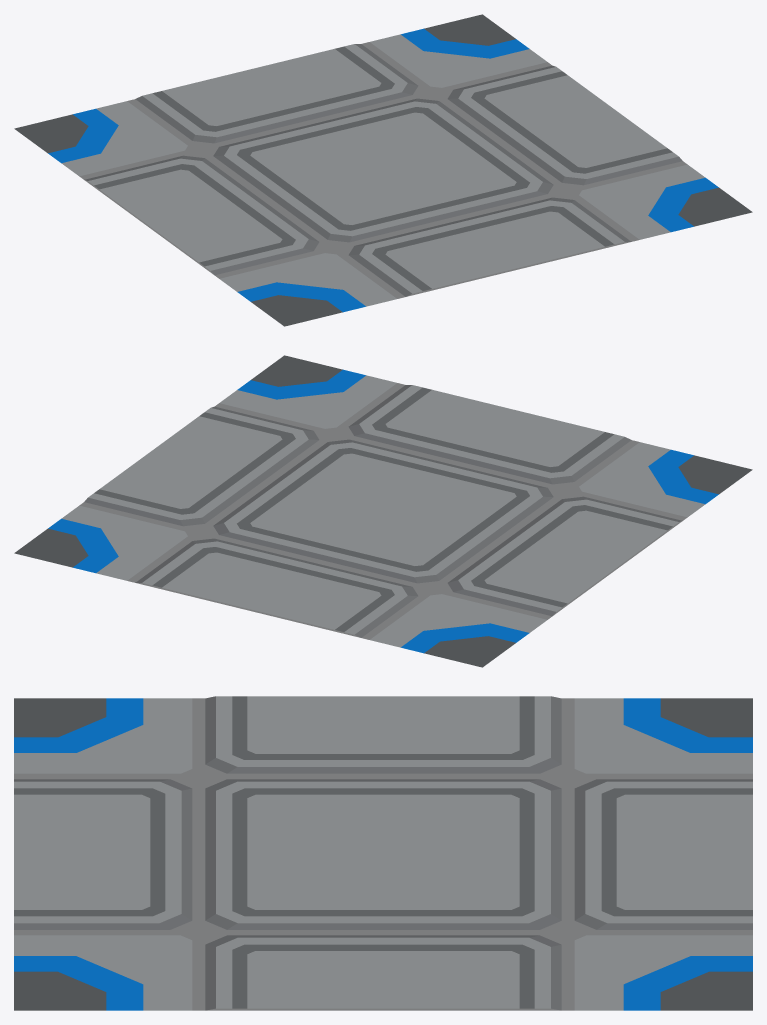
File: Floor_type_B_029.glb
3 views of the same model, one above another, from view 1: azimuth 30°, elevation 25°; view 2: azimuth 150°, elevation 25°; view 3: azimuth 270°, elevation 25° (orthographic). The views are drawn at different scales.
Visible parts, largest first — view 1: Floor_type_B_029; view 2: Floor_type_B_029; view 3: Floor_type_B_029.
Boxes of the visible parts, x1,y1,x2,y2 form: Floor_type_B_029: (14, 14, 752, 326); Floor_type_B_029: (14, 355, 752, 667); Floor_type_B_029: (14, 696, 752, 1010).
Size of the model in its own units: 4 by 0.0134 by 4.
Materials: 2 (2 with a texture image).
